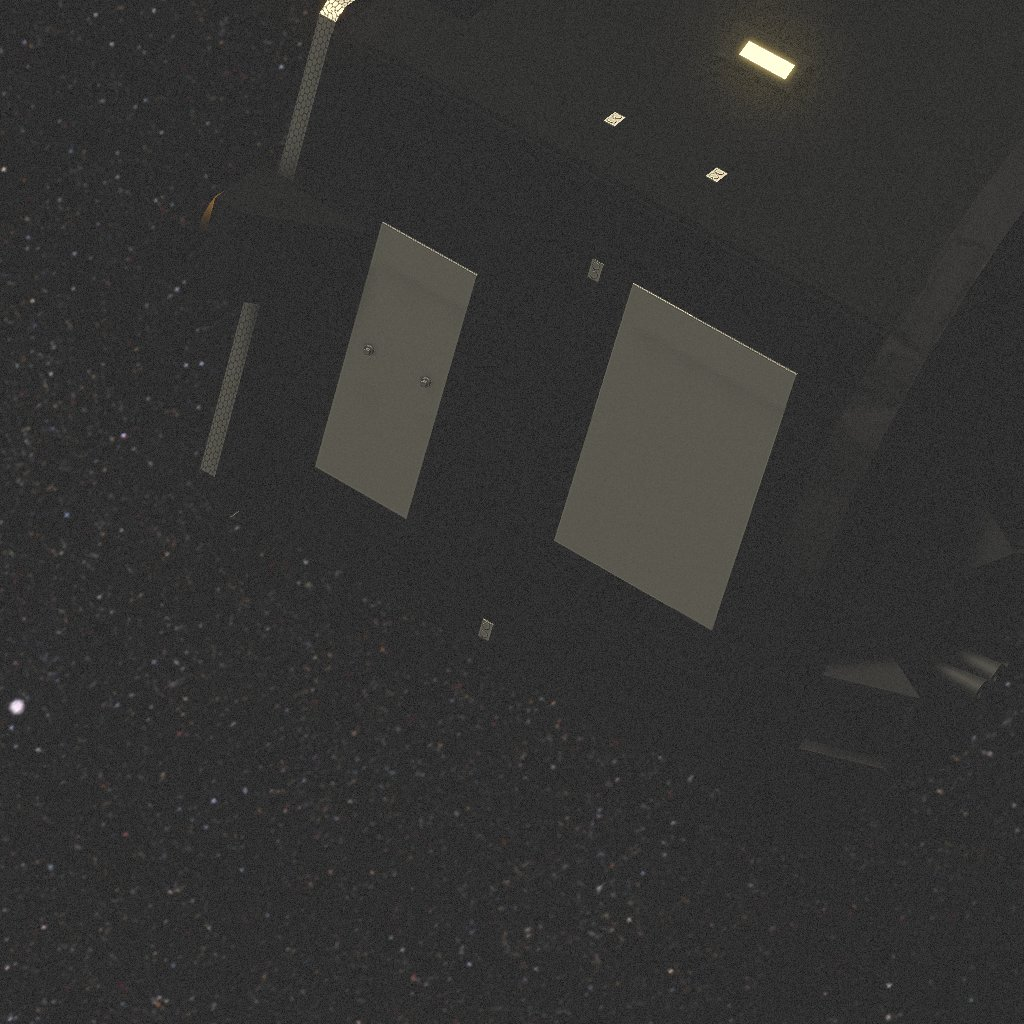proba_3_ocs: (194, 0, 1024, 850)
